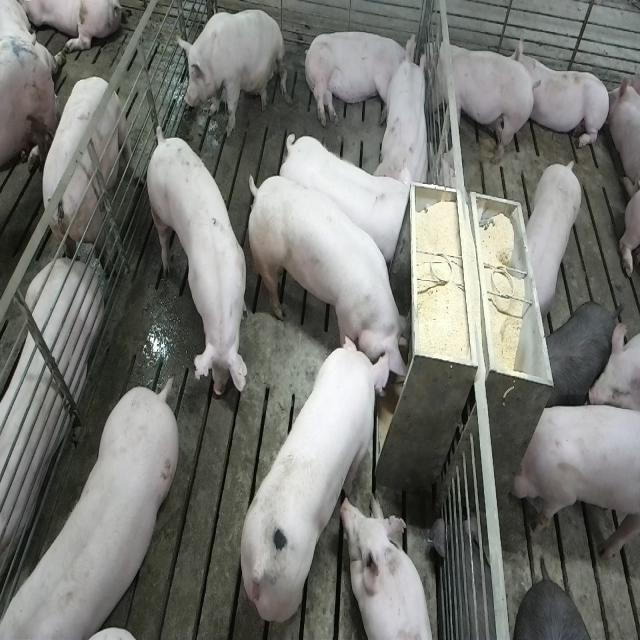Feeding: (238, 333, 394, 625), (251, 174, 417, 394)
Lateral_lying: (302, 28, 418, 128)
Sitting: (176, 7, 285, 139)
Standing: (6, 381, 181, 640), (144, 128, 246, 414), (511, 402, 637, 562), (34, 76, 132, 277), (279, 128, 411, 262), (424, 31, 536, 167), (524, 155, 586, 317), (544, 300, 620, 411), (516, 579, 596, 638)
Sternal_lying: (0, 258, 100, 596), (344, 494, 436, 640), (520, 36, 611, 154), (377, 48, 432, 190)
